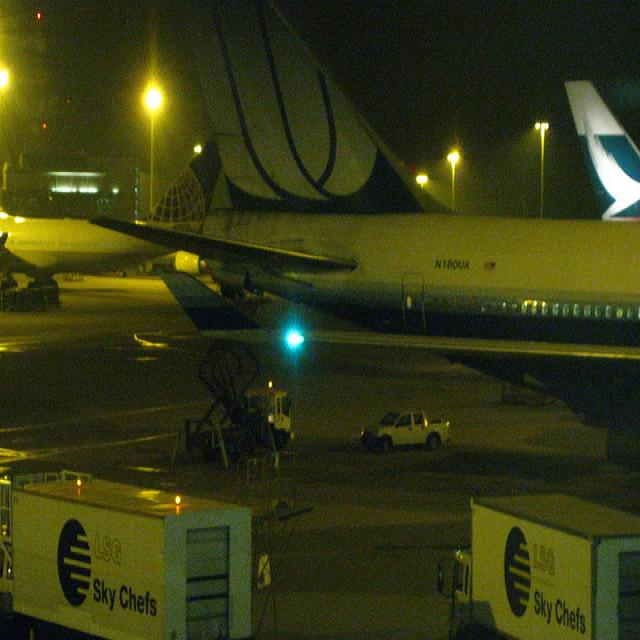Vehicle: (0, 458, 251, 638), (439, 493, 640, 631), (184, 337, 296, 468), (362, 410, 451, 454), (362, 412, 448, 453)
